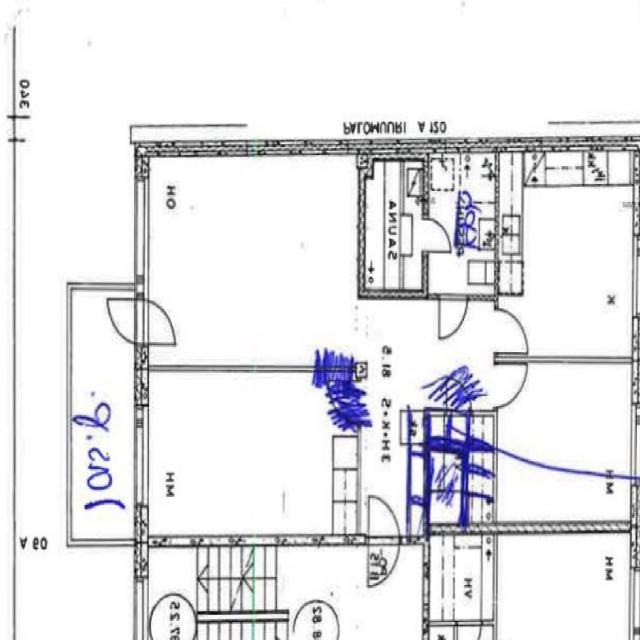door: (102, 300, 148, 344), (134, 300, 180, 344), (368, 536, 399, 588), (496, 309, 532, 353), (369, 494, 399, 545), (496, 363, 530, 406), (439, 294, 467, 337), (423, 219, 452, 252)
